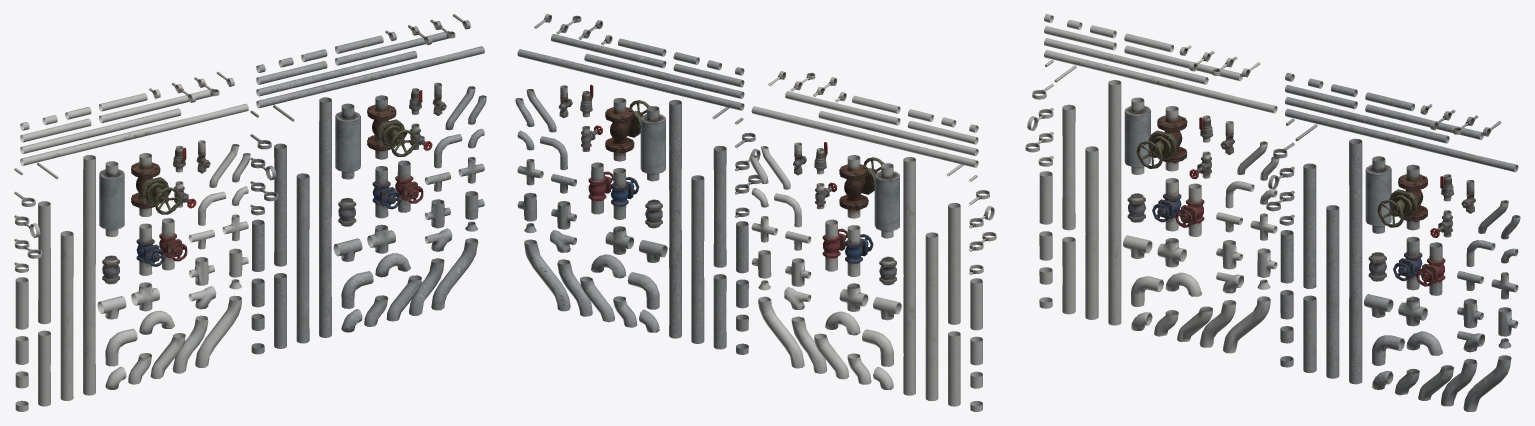
File: modular_pipes.glb
3 views of the same model, side by side, from view 1: azimuth 30°, elevation 25°; view 2: azimuth 150°, elevation 25°; view 3: azimuth 330°, elevation 25° (orthographic). The views are drawn at different scales.
Parts seen in each view (by area): view 1: pipe_5cm_pvc, pipe_5cm_metal; view 2: pipe_5cm_metal, pipe_5cm_pvc; view 3: pipe_5cm_pvc, pipe_5cm_metal.
Part boxes in pixels (box(x1,y1,x2,y2)): pipe_5cm_pvc: box(14, 71, 250, 411); pipe_5cm_metal: box(250, 14, 486, 354); pipe_5cm_metal: box(515, 14, 760, 354); pipe_5cm_pvc: box(749, 71, 996, 411); pipe_5cm_pvc: box(1025, 14, 1279, 353); pipe_5cm_metal: box(1266, 73, 1520, 411).
Bounding box in the file's own units: 4.19 × 2.43 × 0.4568.
2 materials, 2 textured.
